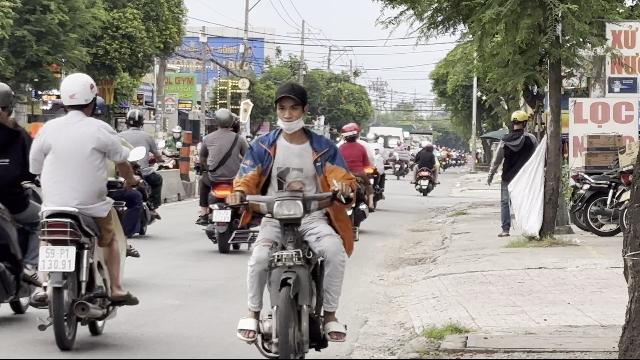helmet: (56, 72, 98, 116), (340, 122, 362, 144), (213, 107, 234, 129), (125, 109, 145, 129)
licenseplate: (40, 246, 74, 270), (213, 210, 230, 222)
motorcyclist: (232, 78, 364, 358), (26, 71, 146, 350), (194, 107, 252, 253), (114, 108, 164, 236), (332, 121, 380, 231)
nohelmet: (272, 82, 308, 136)
